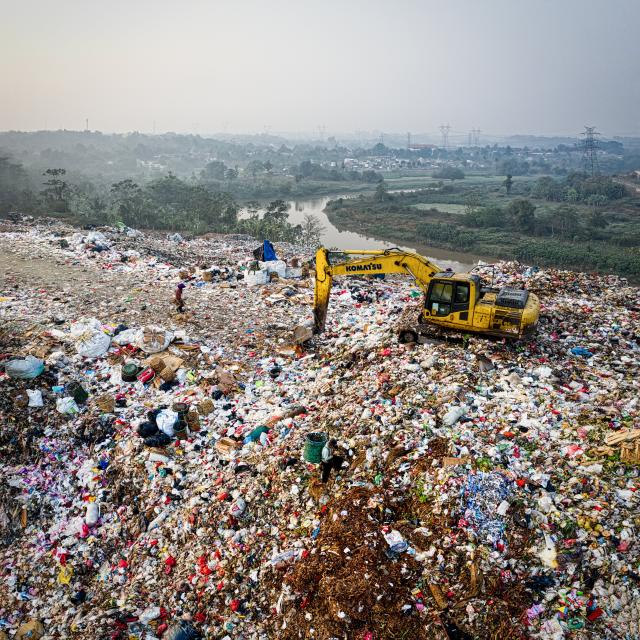trash: (82, 340, 302, 545)
